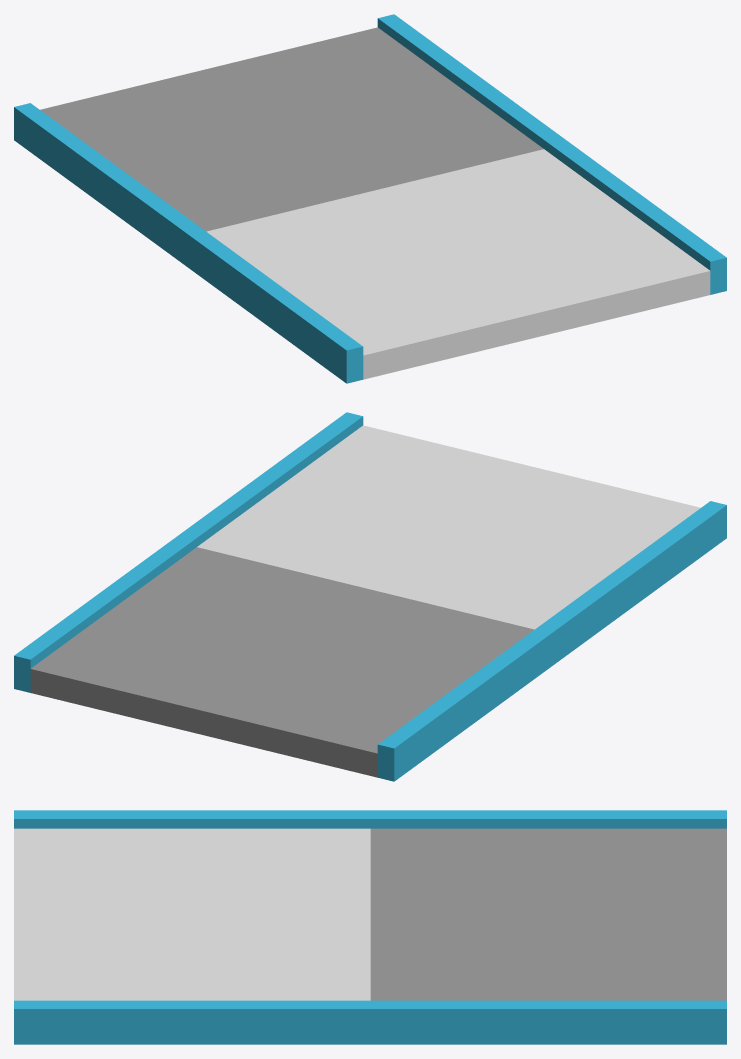
The model's file is Maptile.fbx.
The picture shows the model from 3 angles, top to bottom: view 1: azimuth 30°, elevation 25°; view 2: azimuth 150°, elevation 25°; view 3: azimuth 270°, elevation 25°; orthographic projection. The views are drawn at different scales.
Visible parts, largest first — view 1: Cube; view 2: Cube; view 3: Cube.
Part boxes in pixels (<box>): Cube: <box>14,14,726,383</box>; Cube: <box>14,412,726,781</box>; Cube: <box>14,810,726,1044</box>.
Bounding box in the file's own units: 1320 × 110 × 2000.
